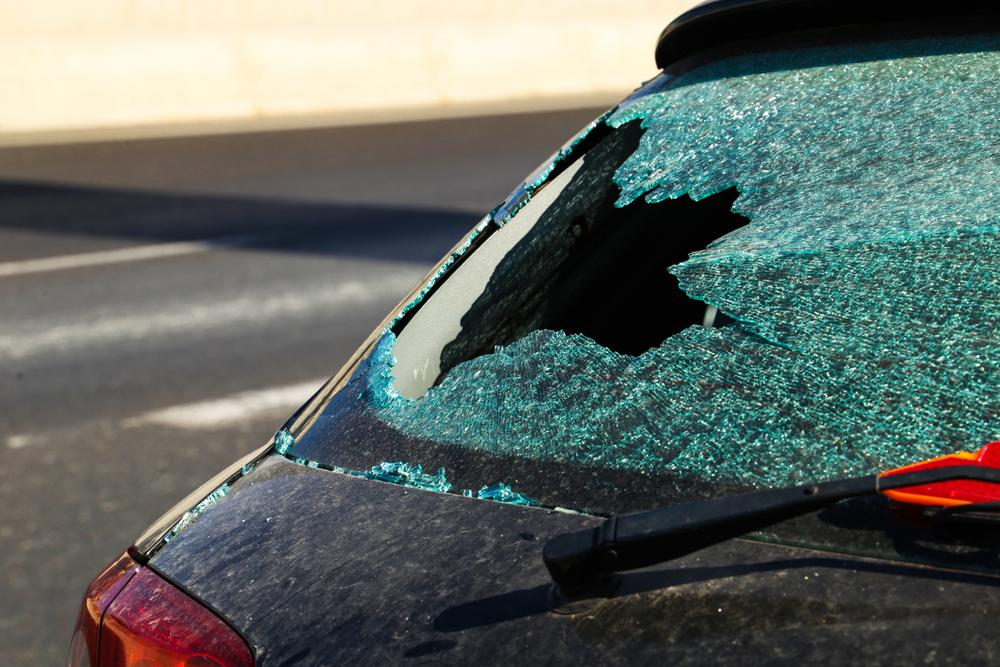glass shatter: (275, 31, 1000, 517)
